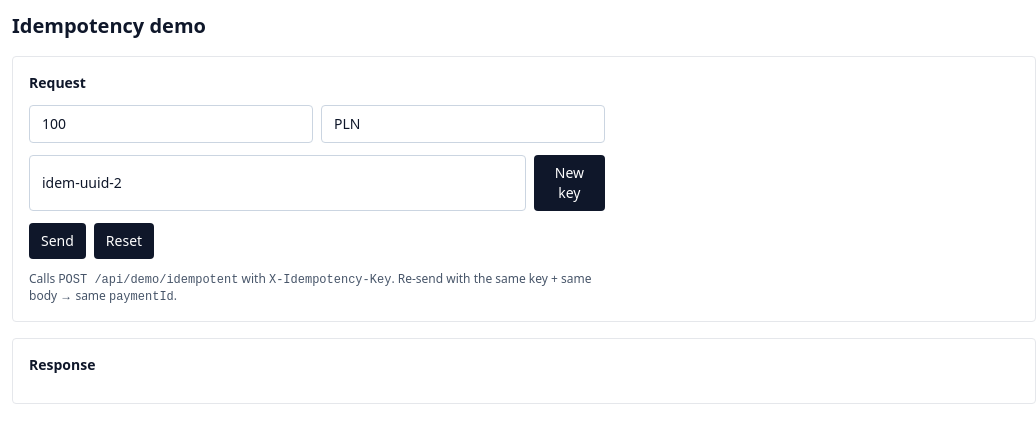
Test: Idempotent demo page › disables Send when amount is not a number
The width and height of the screenshot is (1036, 421).
Replace the text in the 1st field with placeholder "Amount" with "abc" at {"x": 171, "y": 124}, box 29,105 -> 313,143
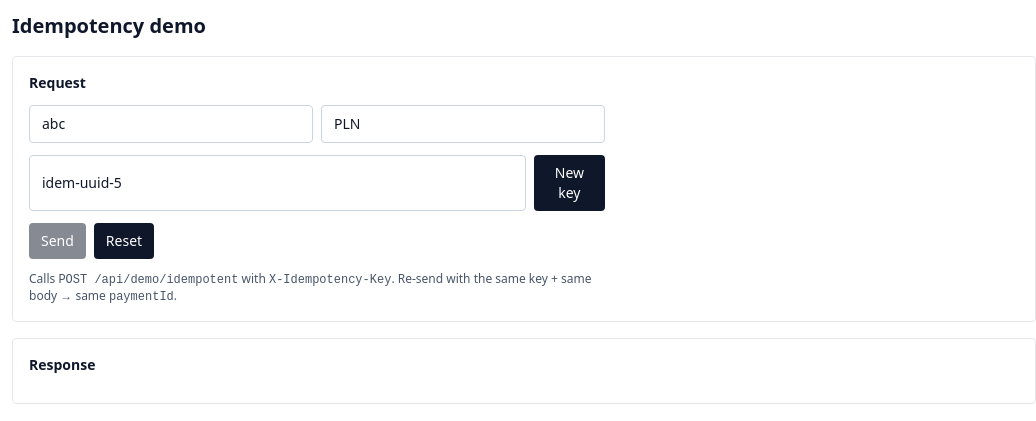
Result: the button "Send" is disabled at 29,223 -> 86,259
